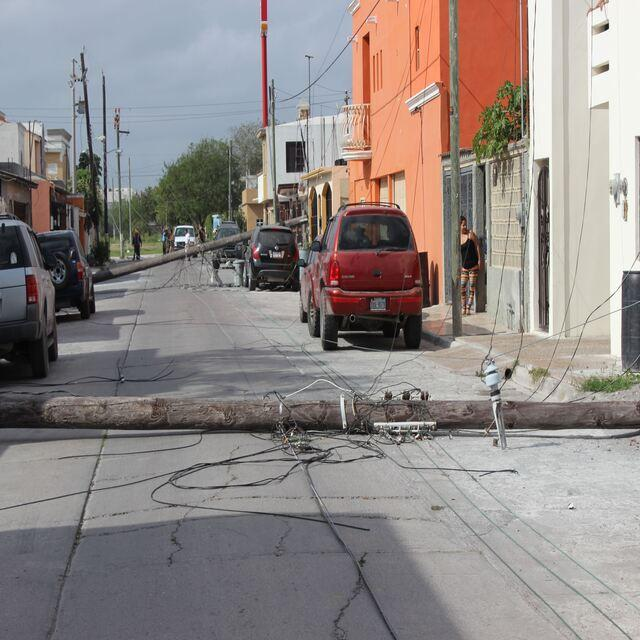Inclined Pole: (4, 359, 640, 453)
